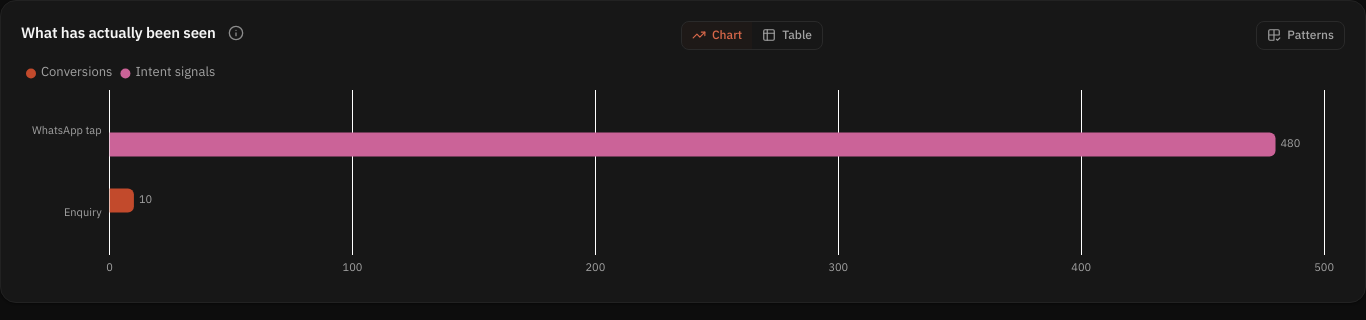
Scenario: what has actually been seen › marks an intent signal as one and never totals it with a conversion
Click the button "Table".
click(787, 35)  # box [752,22,822,49]
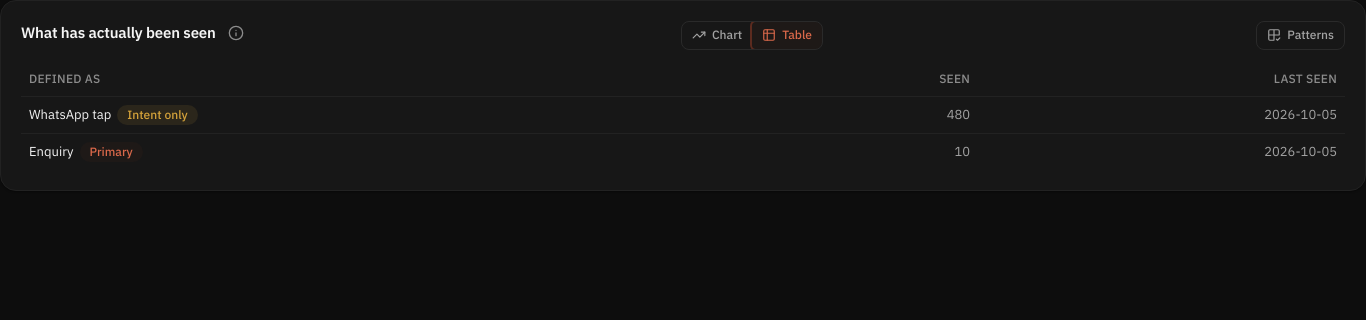
Now the text "Intent only" is shown, box [117,105,198,125]
